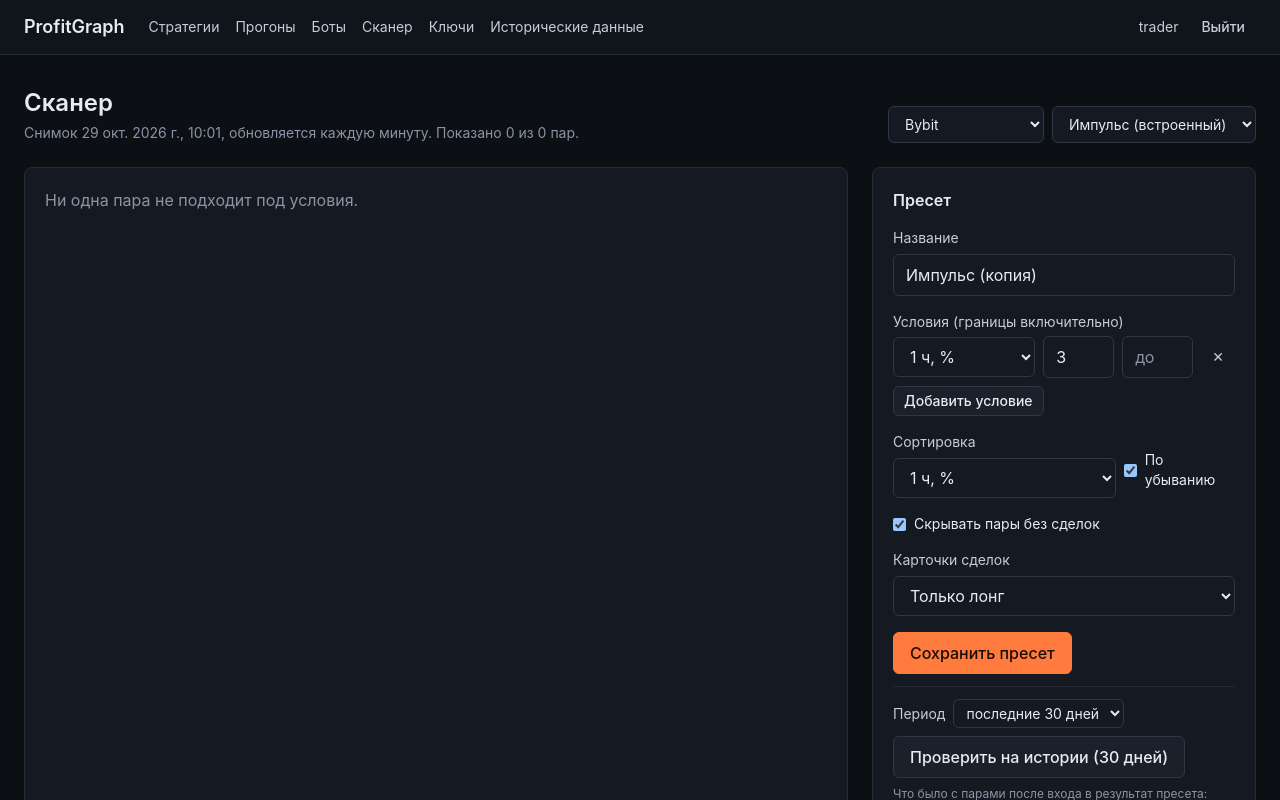
scanner page › switches to T-Invest and shows its shares with its own presets
The image size is (1280, 800).
Select "T-Invest (MOEX)" in the dropdown named "Биржа": coordinates (966, 124) [888,106,1044,143]
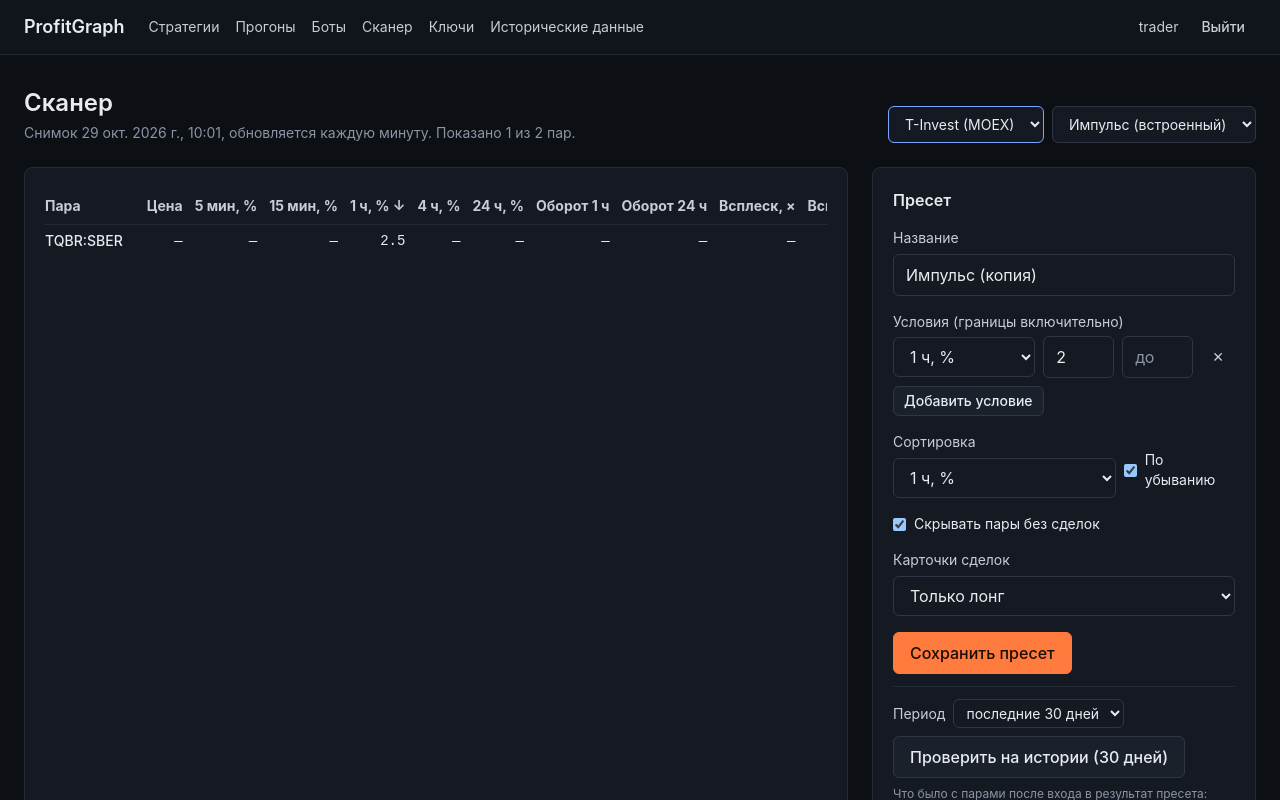
Expected: the link "TQBR:SBER" is shown, [45,232,123,249]
